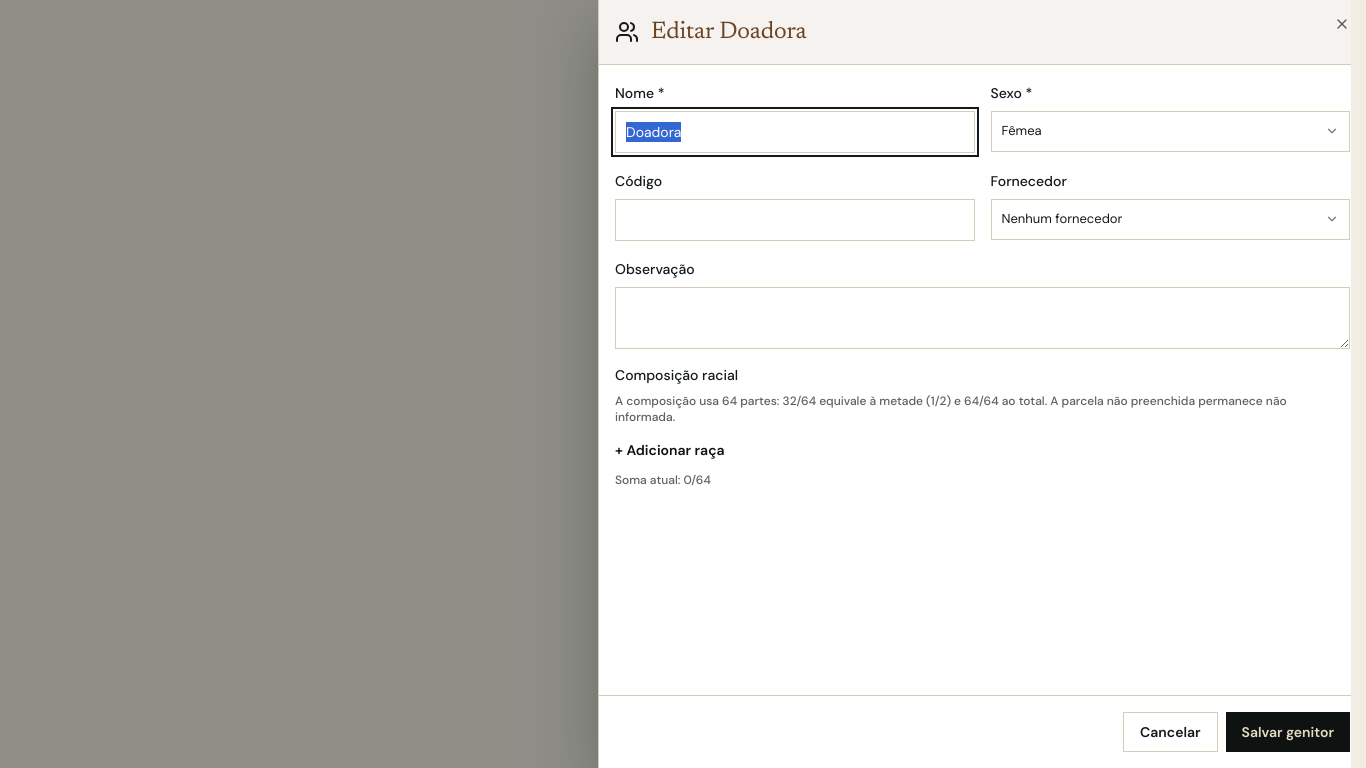
Test: FormGenitor — fornecedor cadastrado › mostra no campo Sexo por que uma doadora usada em material não pode virar macho
Click the dropdown named "Sexo" at {"x": 1022, "y": 130}, box [990, 111, 1350, 152]
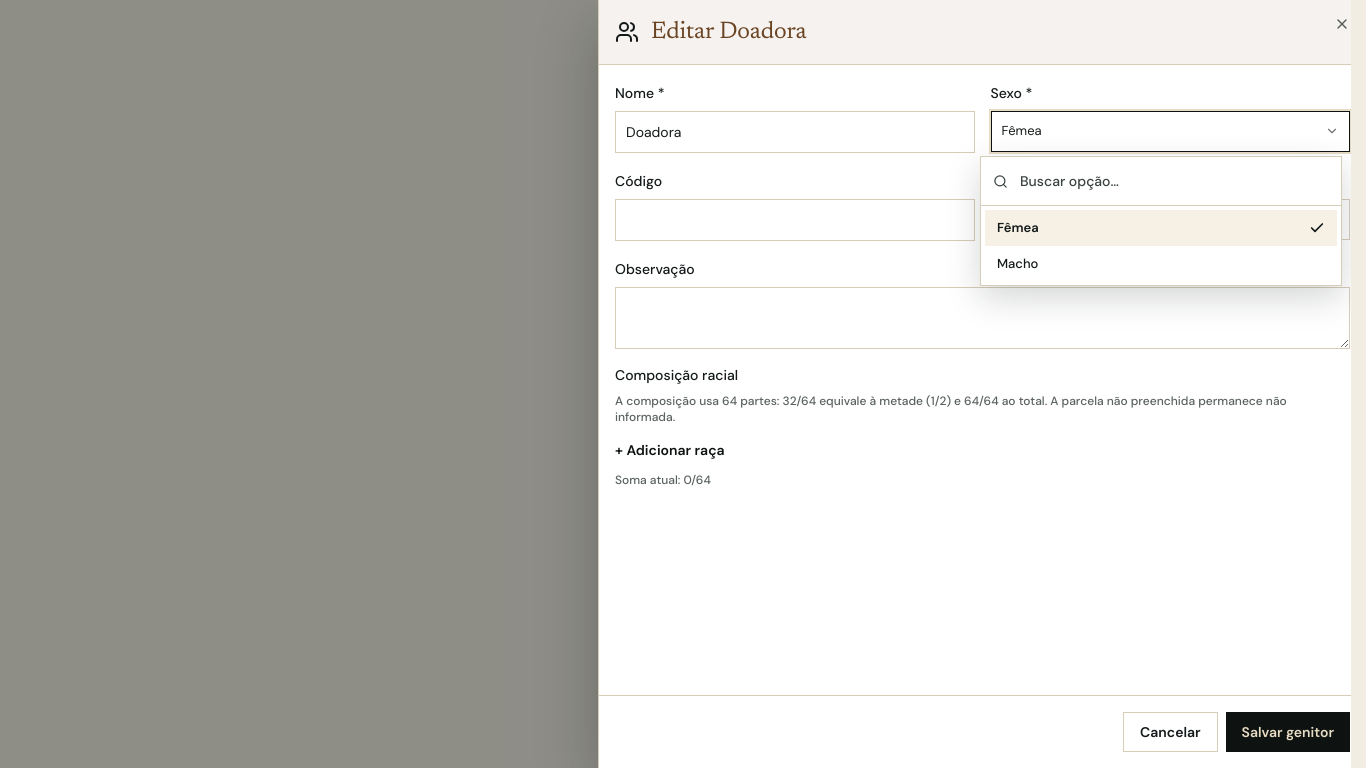
Click the option "Macho" at {"x": 1018, "y": 263}, box [997, 254, 1038, 272]
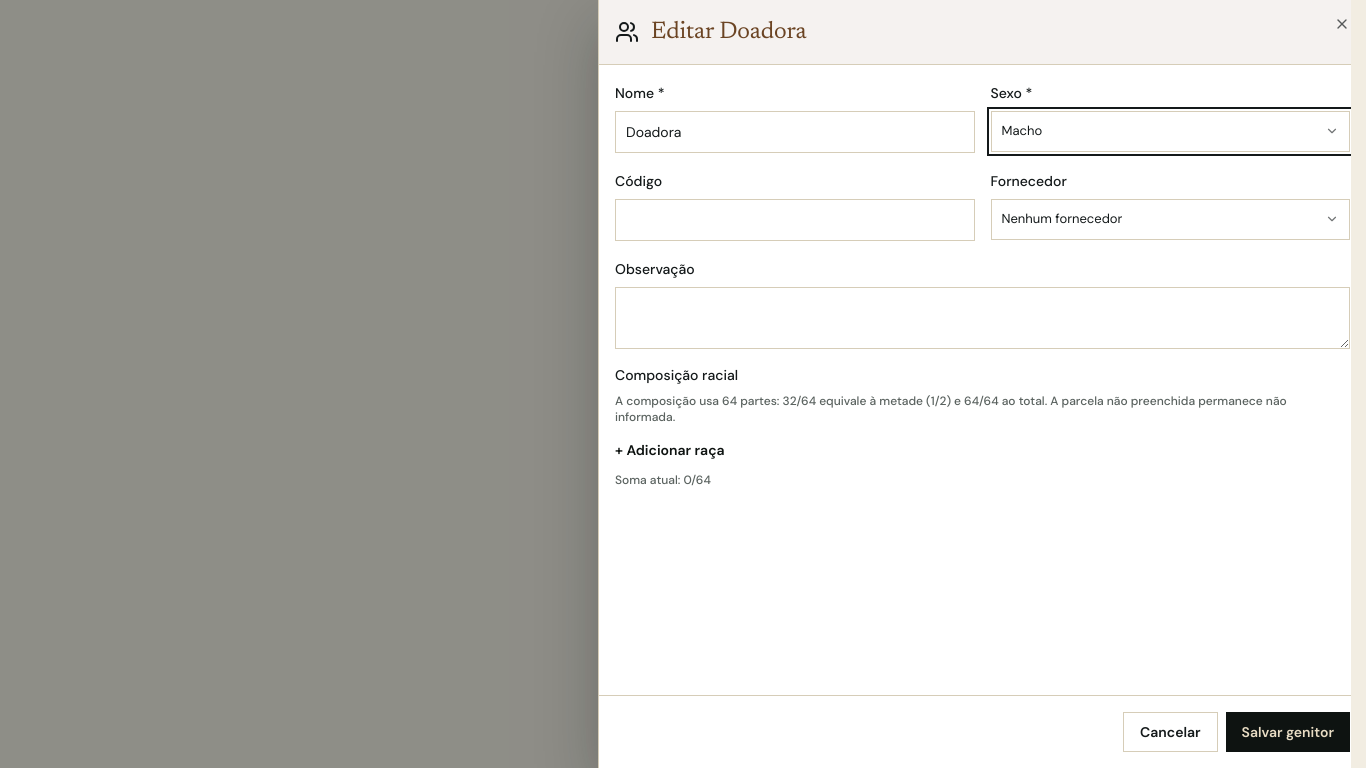
Click the button "Salvar genitor" at {"x": 1288, "y": 732}, box [1226, 712, 1350, 752]
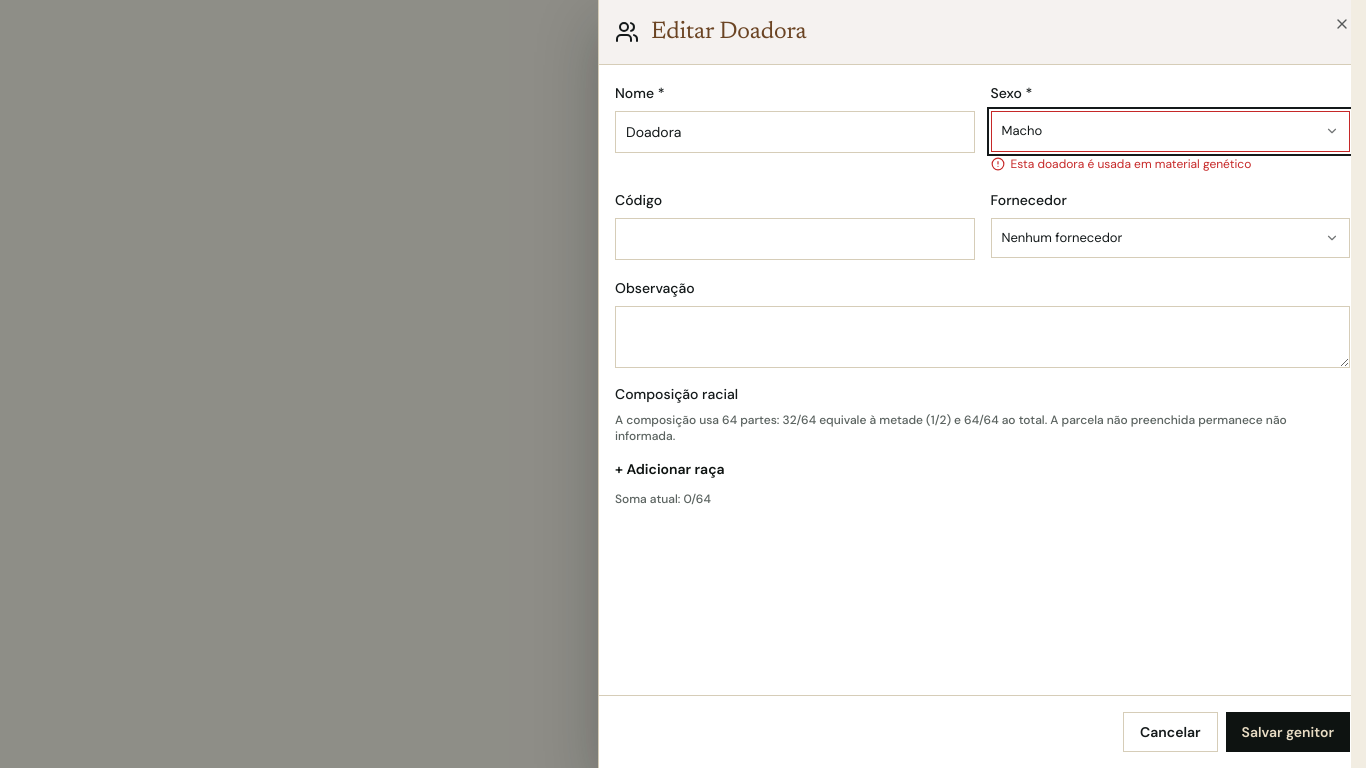
Expected: the message reads "Esta doadora é usada em material genético", [1010, 156, 1251, 172]
